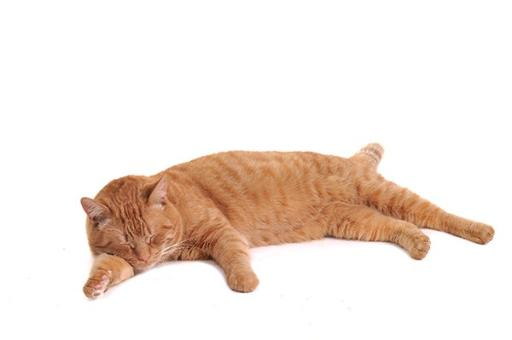cat_sleeping: (81, 143, 493, 298)
